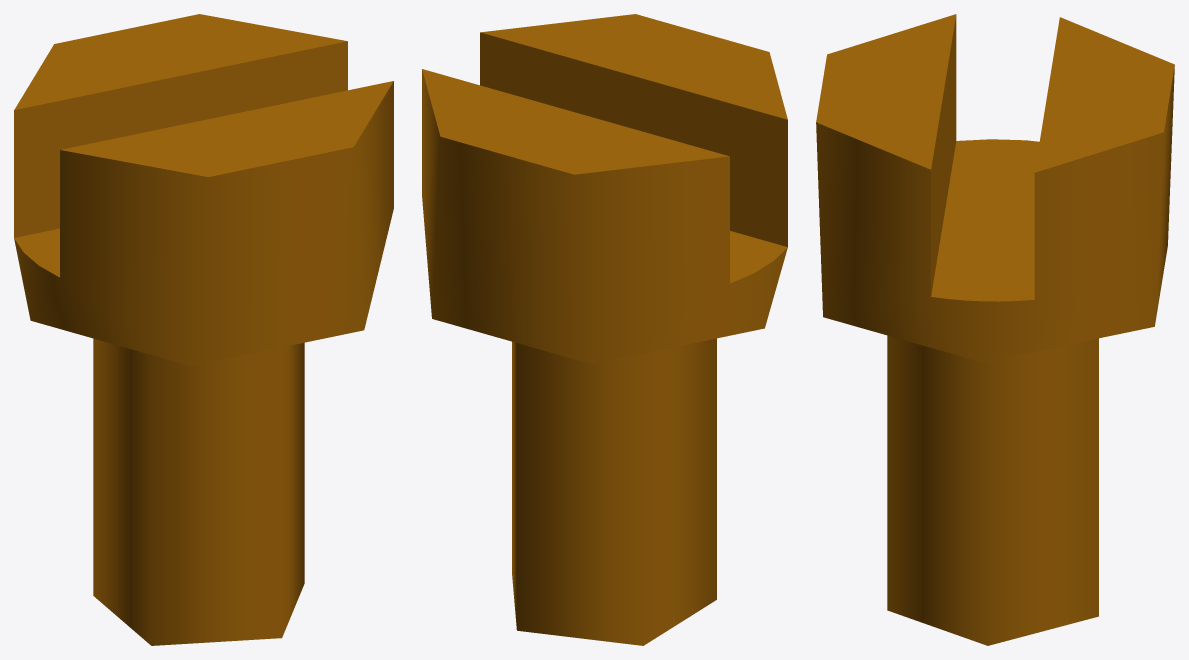
Rendered from Copie de Vis laiton Plaque haute bati^Horloge Comtoise Verge - Sonnerie.obj.
3 renders of one model, left to right at view 1: azimuth 30°, elevation 25°; view 2: azimuth 150°, elevation 25°; view 3: azimuth 270°, elevation 25°, orthographic.
Parts seen in each view (by area): view 1: Face_5, Face_1, Face_10, Face_11, Face_8, Face_9; view 2: Face_5, Face_1, Face_7, Face_8, Face_11, Face_9; view 3: Face_1, Face_5, Face_9, Face_8, Face_11, Face_7.
Part boxes in pixels (bbox=[...]): Face_5: bbox=[14, 81, 393, 365]; Face_1: bbox=[93, 338, 304, 645]; Face_10: bbox=[14, 41, 347, 237]; Face_11: bbox=[14, 14, 347, 110]; Face_8: bbox=[61, 81, 393, 176]; Face_9: bbox=[14, 228, 59, 277]; Face_5: bbox=[422, 69, 787, 364]; Face_1: bbox=[512, 338, 716, 645]; Face_7: bbox=[480, 32, 787, 246]; Face_8: bbox=[481, 14, 787, 119]; Face_11: bbox=[422, 69, 728, 174]; Face_9: bbox=[730, 231, 787, 283]; Face_1: bbox=[887, 335, 1098, 645]; Face_5: bbox=[816, 65, 1174, 362]; Face_9: bbox=[931, 139, 1039, 301]; Face_8: bbox=[816, 14, 956, 169]; Face_11: bbox=[1034, 17, 1174, 172]; Face_7: bbox=[931, 15, 956, 296].
Size of the model in its own units: 0.0074 by 0.0107 by 0.00691.
